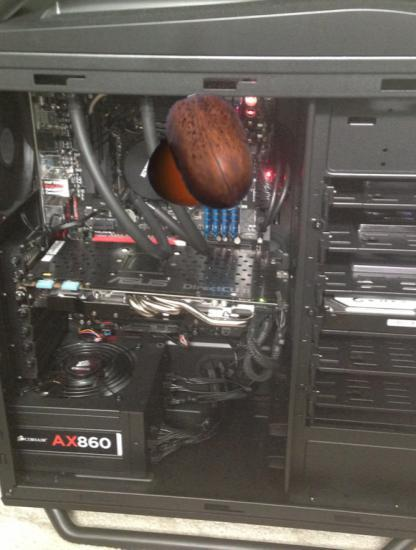Granadilla: (146, 124, 233, 211)
Nut: (151, 91, 273, 213)
